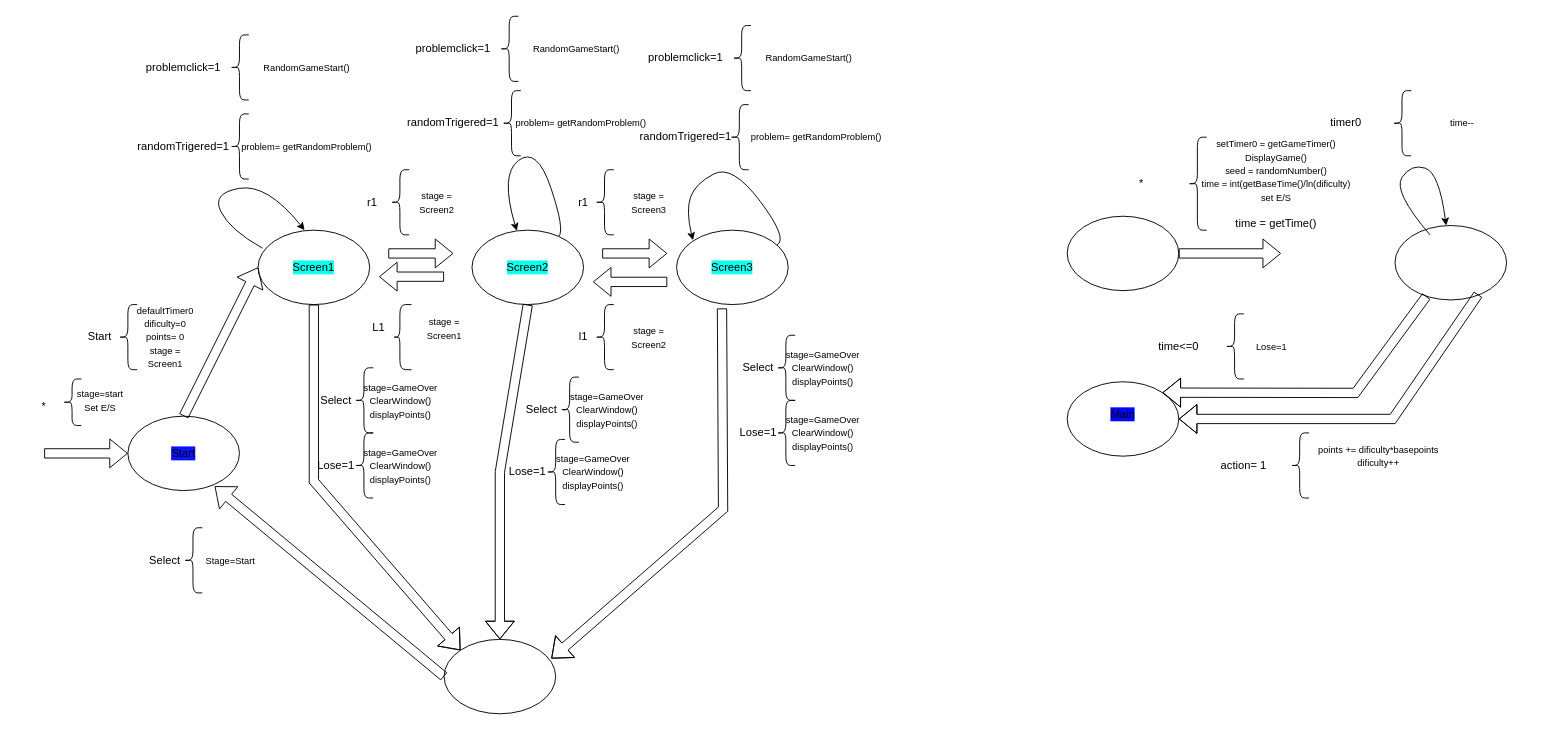
Some shapes in this 1557 by 730 pixel diagram are drawn without their labels. Each missing label, with the box of its shape:
GAME OVER: (443, 638, 556, 714)
RandomGAME Start: (1066, 215, 1179, 291)
